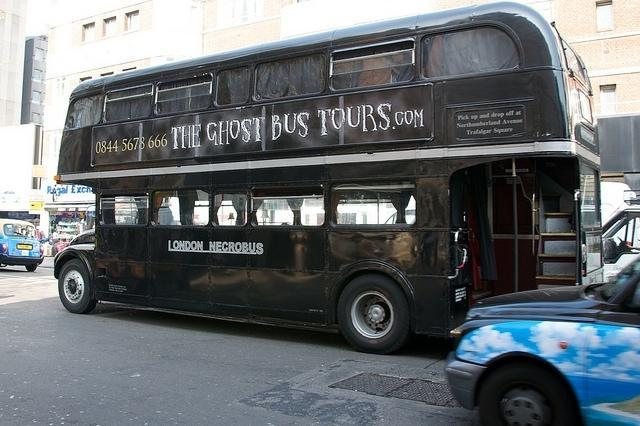bus: (46, 2, 604, 356)
car: (446, 254, 638, 421), (0, 218, 45, 272)
